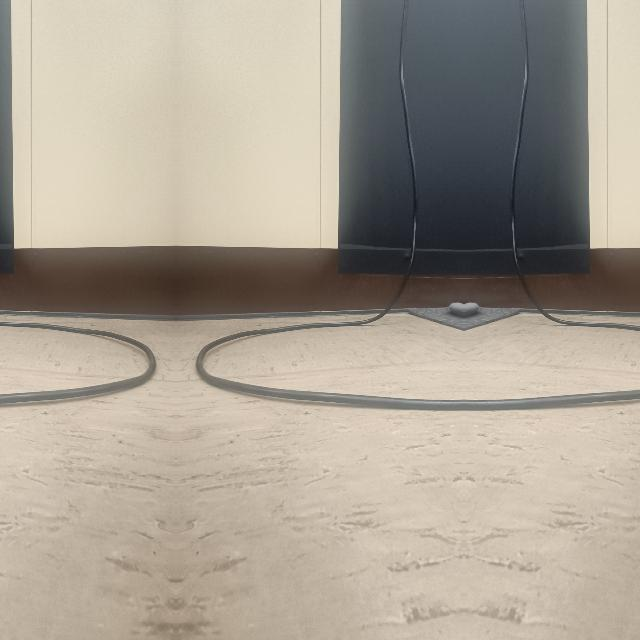obstacle: (197, 320, 463, 412), (464, 320, 640, 412), (0, 320, 153, 412), (376, 78, 424, 316), (504, 78, 550, 316)
